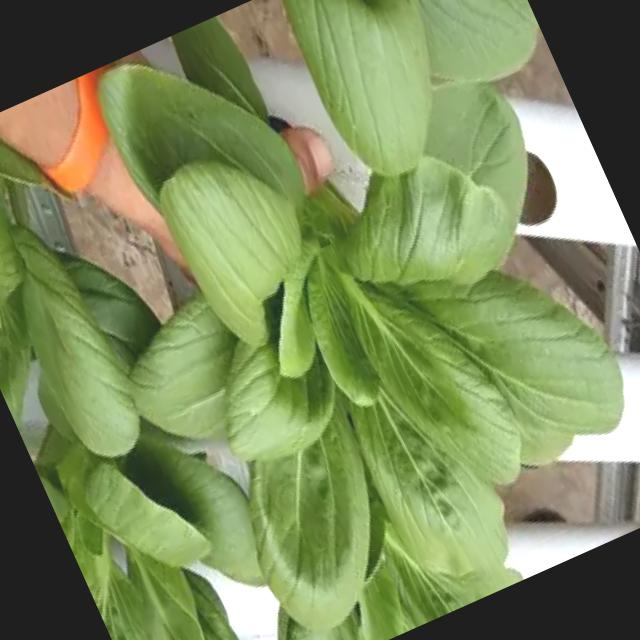pakcoy_sehat: (69, 0, 640, 637)
